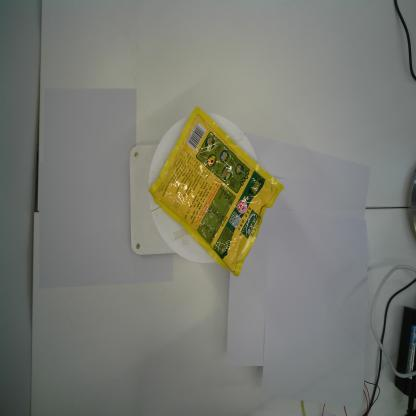Seasoner: (148, 104, 285, 277)
